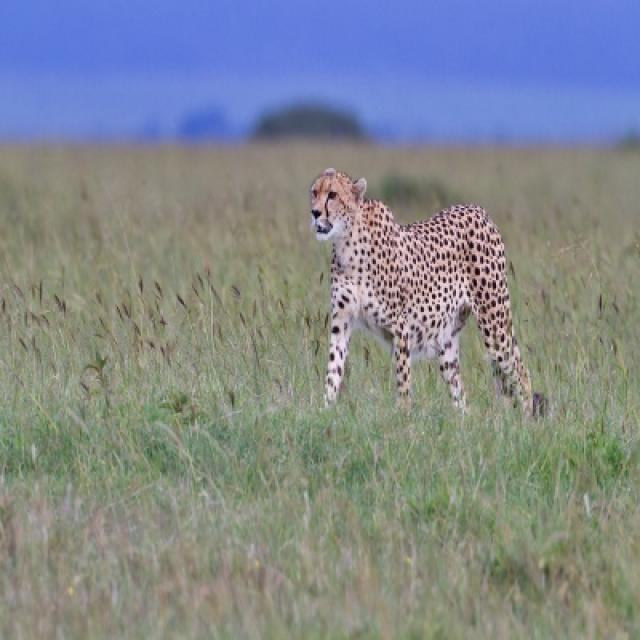Cheetah: (310, 170, 541, 416)
